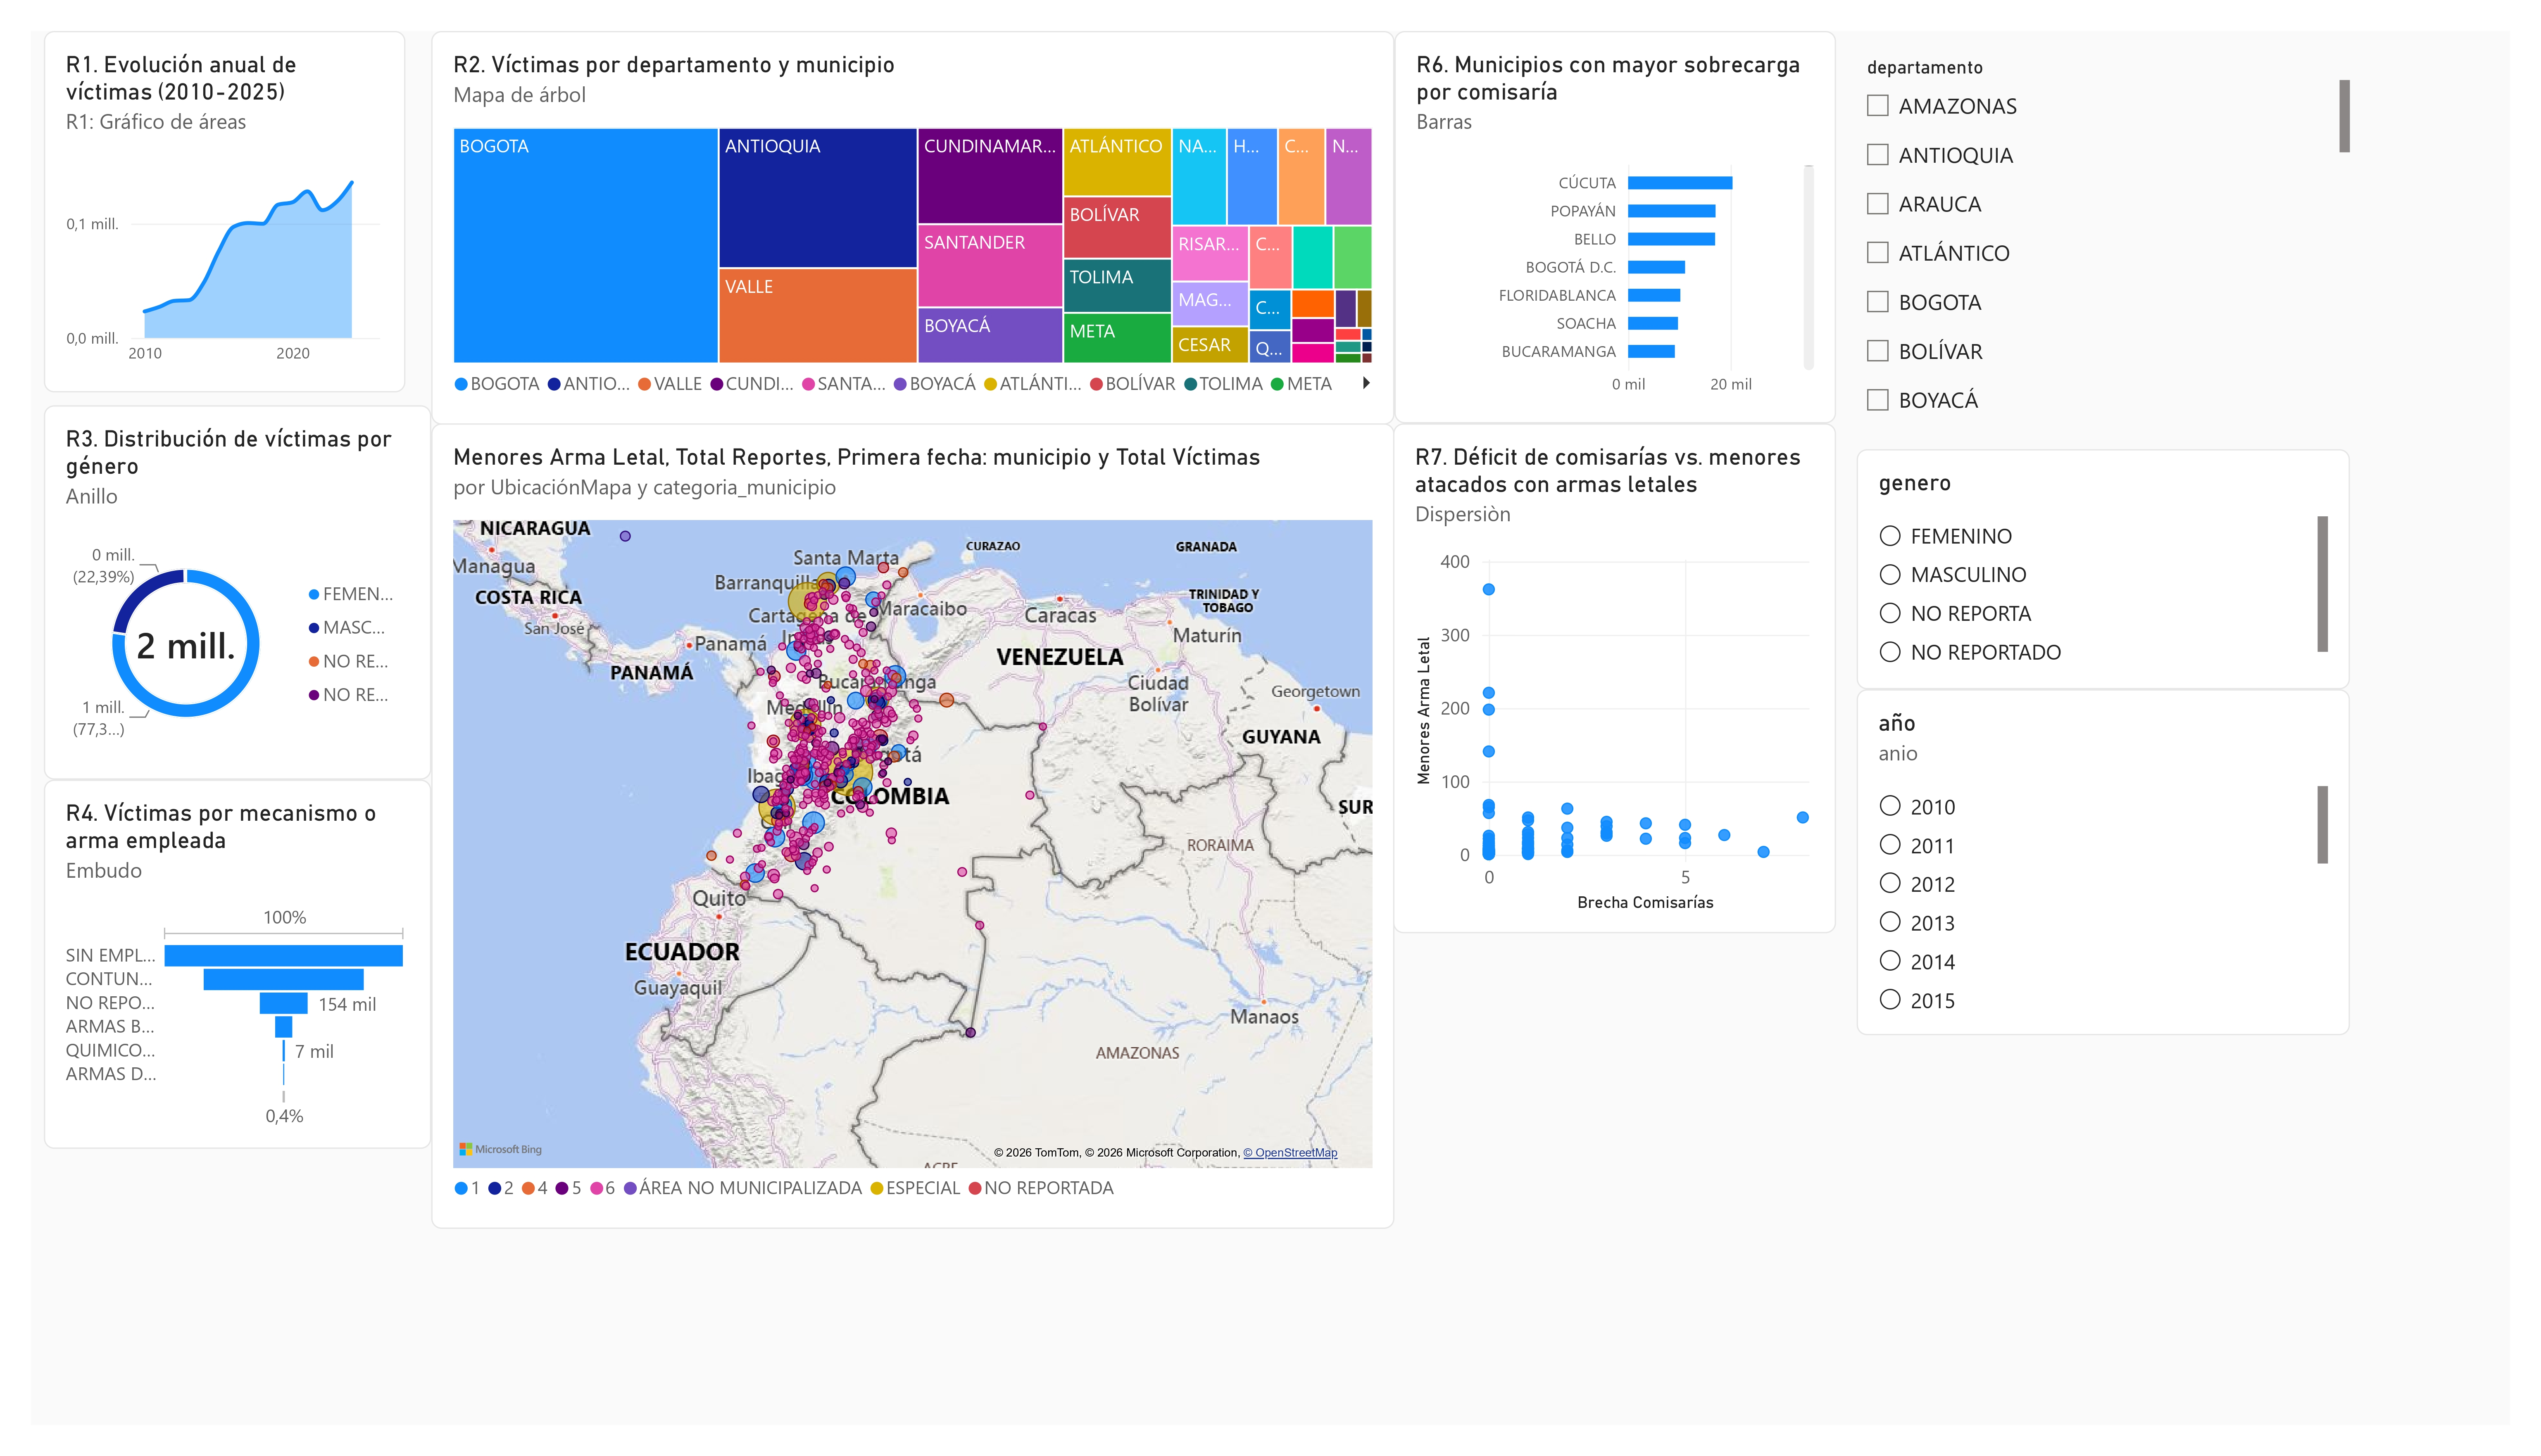

The dashboard page shown, as its layout file describes it:
{"tool":"powerbi","page":{"name":"Página 1","canvas":[1920,1080],"ordinal":0},"visuals":[{"type":"areaChart","title":"R1. Evolución anual de víctimas (2010-2025)","fields":{"Category":["public dim_tiempo.anio"],"Y":["public fact_violencia_intrafamiliar.Total Víctimas"]},"box":[10,0,280,280],"z":0},{"type":"donutChart","title":"R3. Distribución de víctimas por género","fields":{"Category":["public dim_victima.genero"],"Y":["public fact_violencia_intrafamiliar.Total Víctimas"]},"box":[10,290,300,280],"z":1000},{"type":"funnel","title":"R4. Víctimas por mecanismo o arma empleada","fields":{"Category":["public dim_medio.categoria_mecanismo","public dim_medio.id_medio"],"Y":["public fact_violencia_intrafamiliar.Total Víctimas"]},"box":[10,580,300,326],"z":2000},{"type":"clusteredBarChart","title":"R6. Municipios con mayor sobrecarga por comisaría","fields":{"Category":["public dim_geografia.municipio"],"Y":["public vw_r6_sobrecarga_comisarias.Víctimas por Comisaría"]},"box":[1056,20,342,304],"z":3000},{"type":"scatterChart","title":"\tR7. Déficit de comisarías vs. menores atacados con armas letales","fields":{"Category":["public dim_geografia.municipio"],"X":["public vw_r7_prioridad_intervencion.Brecha Comisarías"],"Y":["public fact_violencia_intrafamiliar.Menores Arma Letal"]},"box":[1056,347.8,342.9,395.7],"z":4000},{"type":"listSlicer","fields":{"Values":["public dim_victima.genero"]},"box":[1414,324,382,186],"z":5000},{"type":"slicer","fields":{"Values":["public dim_geografia.departamento"]},"box":[1414,20,382,284],"z":6000},{"type":"listSlicer","title":"año","fields":{"Values":["public dim_tiempo.anio"]},"box":[1414,510,382,268],"z":7000},{"type":"treemap","title":"\tR2. Víctimas por departamento y municipio","fields":{"Group":["public dim_geografia.departamento","public dim_geografia.municipio"],"Values":["public fact_violencia_intrafamiliar.Total Víctimas"]},"box":[310,0,746,305],"z":8000},{"type":"map","fields":{"Category":["public dim_geografia.UbicaciónMapa"],"Series":["public dim_geografia.categoria_municipio"],"Size":["public fact_violencia_intrafamiliar.Menores Arma Letal"]},"box":[310,304,746,624],"z":8001}]}

Visuals, with their boxes on the page's 1920x1080 design canvas (x1, y1, x2, y2). These are canvas units, not pixel positions in the 2541x1456 screenshot, which may show the page scaled, cropped or inside an application window:
"R1. Evolución anual de víctimas (2010-2025)" areaChart: bbox(10, 0, 290, 280)
"R3. Distribución de víctimas por género" donutChart: bbox(10, 290, 310, 570)
"R4. Víctimas por mecanismo o arma empleada" funnel: bbox(10, 580, 310, 906)
"R6. Municipios con mayor sobrecarga por comisaría" clusteredBarChart: bbox(1056, 20, 1398, 324)
"	R7. Déficit de comisarías vs. menores atacados con armas letales" scatterChart: bbox(1056, 348, 1399, 744)
listSlicer - public dim_victima.genero: bbox(1414, 324, 1796, 510)
slicer - public dim_geografia.departamento: bbox(1414, 20, 1796, 304)
"año" listSlicer: bbox(1414, 510, 1796, 778)
"	R2. Víctimas por departamento y municipio" treemap: bbox(310, 0, 1056, 305)
map - public dim_geografia.UbicaciónMapa x public dim_geografia.categoria_municipio: bbox(310, 304, 1056, 928)
